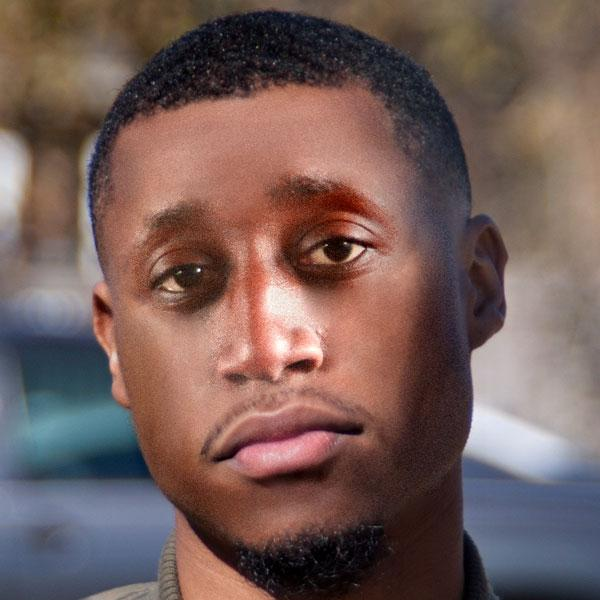Eyes: (286, 211, 390, 292), (139, 233, 230, 321)
